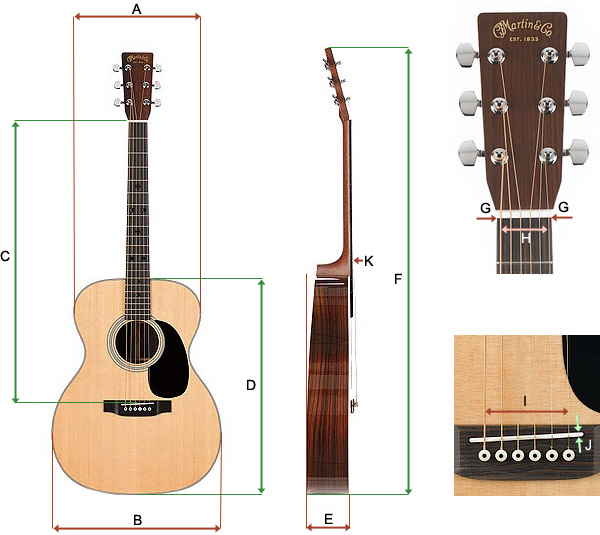guitar: (51, 50, 223, 494), (453, 11, 591, 274), (453, 334, 600, 498), (305, 46, 352, 494)
